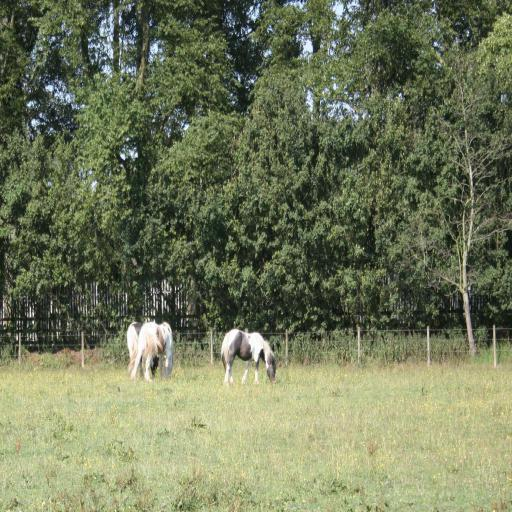horse: (219, 326, 277, 386), (130, 322, 176, 384), (126, 320, 160, 378)
